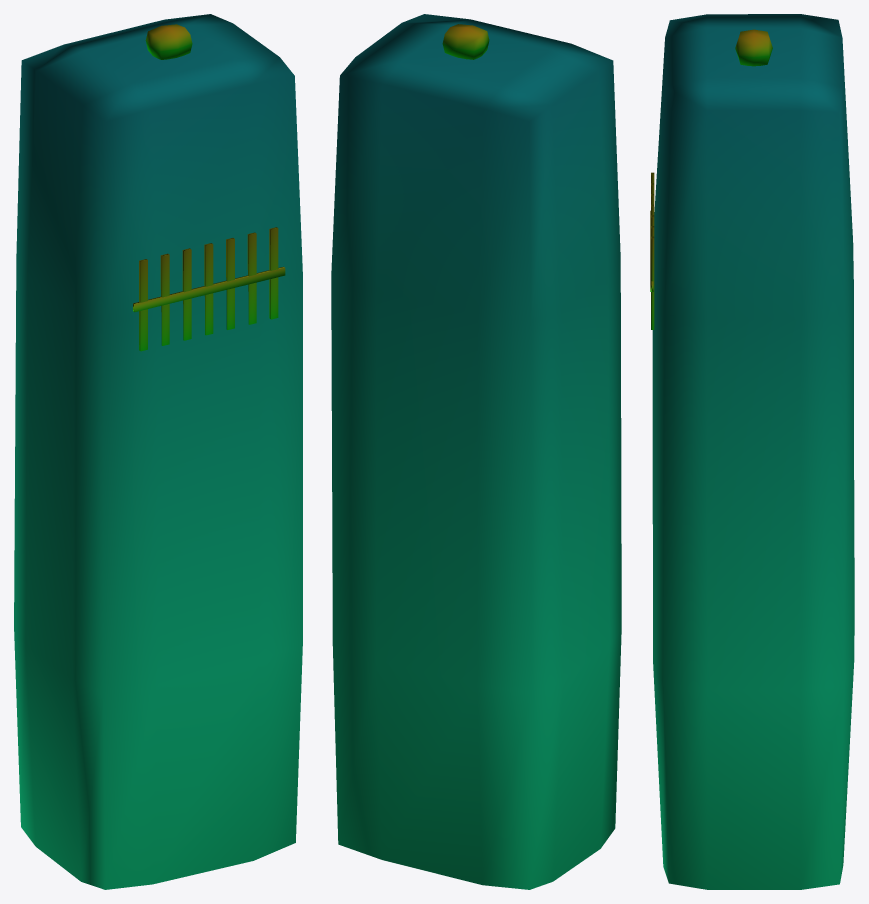
File: milestone.glb
3 views of the same model, side by side, from view 1: azimuth 30°, elevation 25°; view 2: azimuth 150°, elevation 25°; view 3: azimuth 270°, elevation 25° (orthographic).
Parts seen in each view (by area): view 1: milestone; view 2: milestone; view 3: milestone.
Boxes of the visible parts, box(x1,y1,x2,y2) form: milestone: box(14, 14, 302, 889); milestone: box(331, 14, 621, 889); milestone: box(650, 14, 854, 889).
Size of what is drawn, in the model's own units: 0.4042 by 1.44 by 0.3245.
